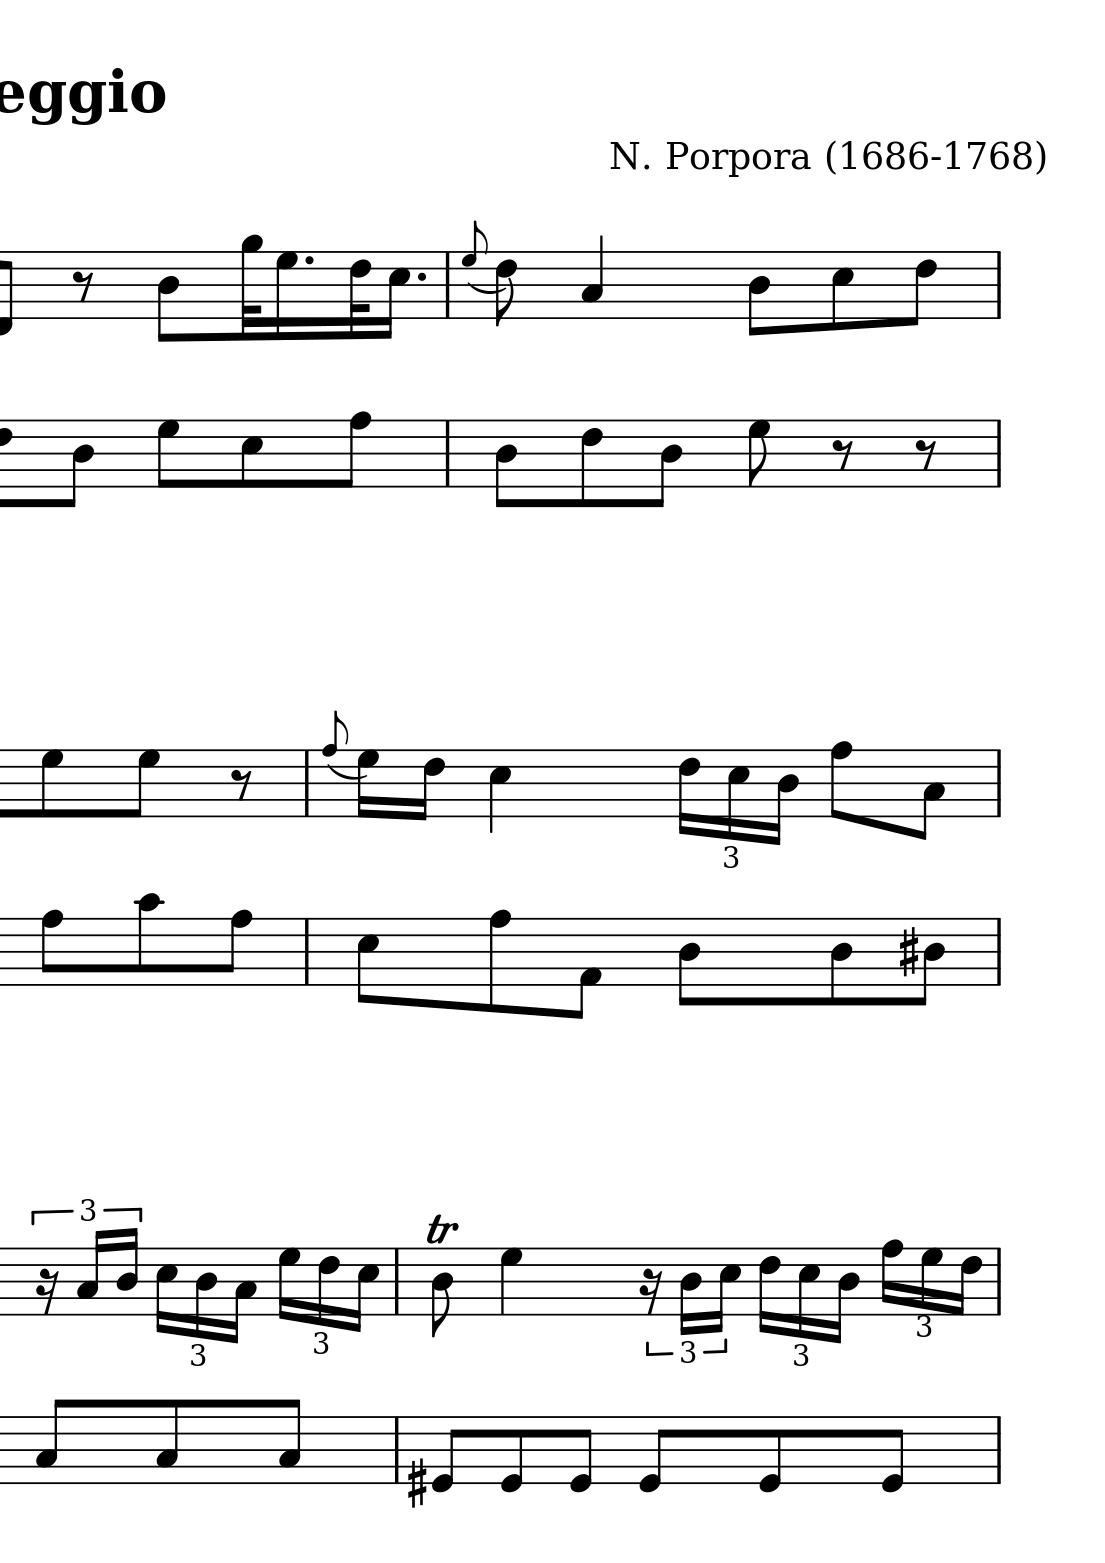16_3: (226, 1246, 257, 1345), (74, 1228, 106, 1317)
16_4: (828, 1245, 859, 1345), (767, 747, 798, 847), (115, 1226, 139, 1317), (194, 1246, 216, 1341), (677, 1247, 701, 1336)
16_5: (709, 1246, 741, 1333), (380, 250, 411, 340), (349, 1247, 380, 1333), (726, 747, 750, 842), (796, 1245, 820, 1339), (154, 1246, 178, 1335)
16_6: (413, 747, 445, 823), (952, 1245, 982, 1318), (677, 747, 701, 836), (757, 1246, 780, 1335), (316, 1246, 338, 1327)
16_7: (273, 249, 299, 343), (354, 747, 379, 822), (276, 1245, 300, 1323), (917, 1245, 942, 1315)
16_8: (878, 1239, 903, 1317)
3: (679, 1337, 698, 1366), (721, 844, 739, 871), (188, 1343, 206, 1369), (792, 1343, 810, 1368), (914, 1315, 932, 1339), (311, 1331, 328, 1356)
32_6: (348, 249, 371, 340)
32_9: (239, 231, 264, 343)
4_3: (579, 234, 605, 320)
4_5: (487, 747, 512, 836)
4_7: (497, 1246, 524, 1317)
8_0: (636, 1415, 669, 1495), (431, 1414, 463, 1492), (567, 1415, 594, 1495), (756, 1415, 783, 1495), (879, 1415, 906, 1495), (497, 1415, 524, 1495)
8_1: (568, 915, 602, 1021)
8_10: (134, 892, 161, 989)
8_3: (912, 747, 946, 842), (33, 1398, 67, 1486), (153, 1397, 181, 1486), (276, 1397, 301, 1486)
8_4: (647, 417, 683, 509), (60, 417, 94, 509), (912, 916, 945, 1007), (492, 417, 519, 509), (745, 249, 771, 338), (828, 916, 853, 1009), (429, 1246, 454, 1339), (155, 249, 179, 344), (676, 916, 700, 1009)
8_5: (354, 916, 380, 1006), (829, 249, 855, 332), (238, 419, 265, 490)
8_6: (902, 249, 938, 329), (578, 417, 604, 511), (493, 250, 518, 328)
8_7: (126, 747, 159, 820), (38, 747, 65, 820), (745, 419, 771, 490), (155, 417, 181, 490)
8_8: (484, 908, 511, 1016), (336, 409, 370, 489), (219, 908, 252, 988), (38, 908, 65, 989), (828, 739, 851, 822)
Appoggiature: (320, 712, 350, 817), (460, 221, 488, 319)
Rests16: (33, 1266, 60, 1317), (637, 1266, 663, 1317)
Rests8: (228, 767, 254, 802), (912, 436, 936, 472), (71, 269, 94, 303), (829, 436, 851, 471)
Sharp: (897, 924, 918, 978), (405, 1457, 426, 1509)
Single_barline: (436, 420, 458, 487), (436, 251, 457, 319), (988, 420, 1008, 487), (297, 750, 316, 817), (989, 750, 1008, 817), (297, 918, 316, 985), (989, 918, 1007, 987), (387, 1416, 405, 1483), (387, 1248, 405, 1314), (990, 1247, 1007, 1315), (990, 1416, 1007, 1484), (990, 251, 1007, 318)
Trill: (425, 1211, 458, 1247)
dot: (415, 267, 429, 283), (301, 254, 316, 268)
